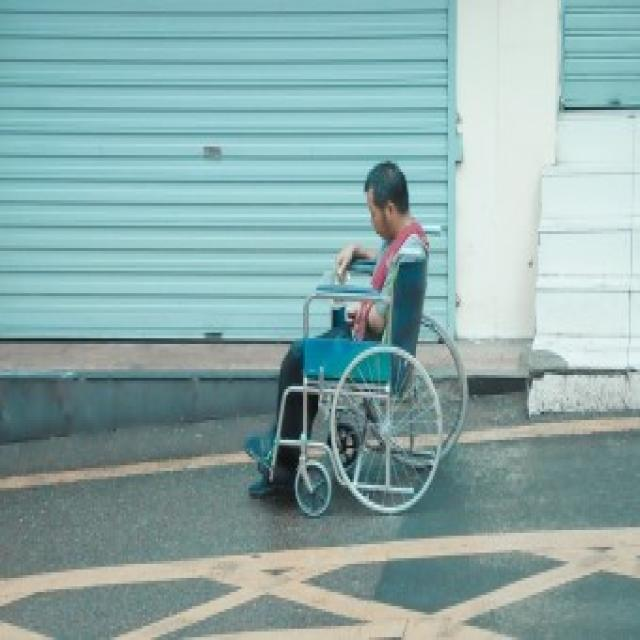wheelchair: (242, 159, 470, 516)
